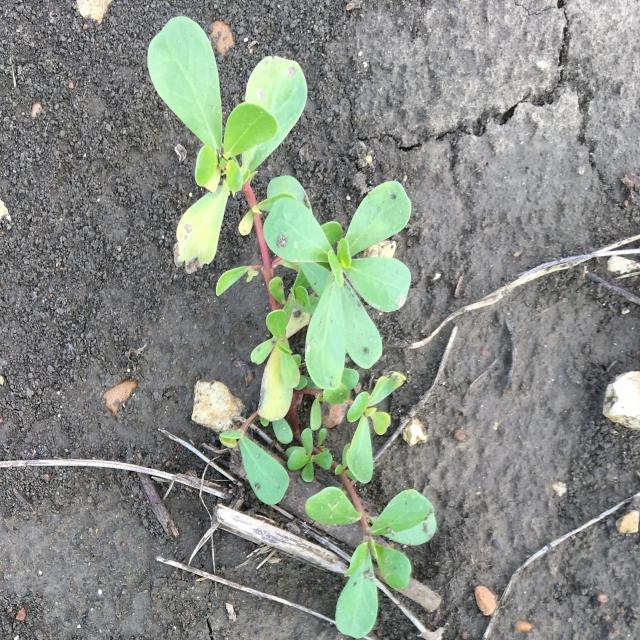Purslane: (147, 16, 437, 639)
